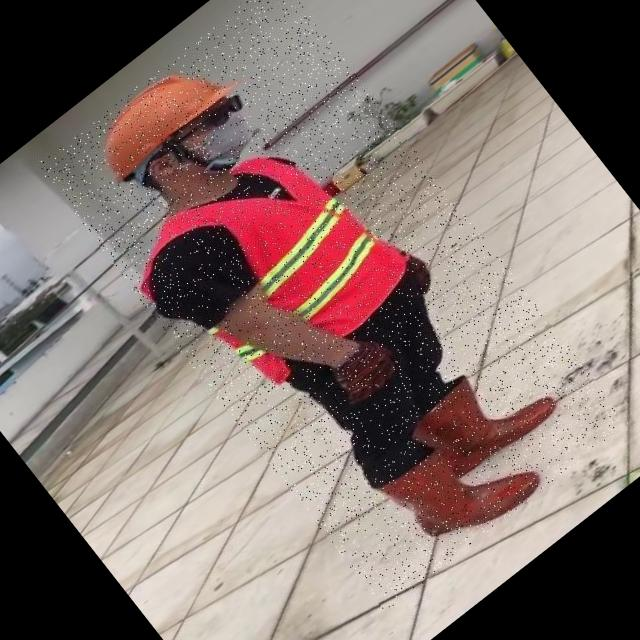hard_hat: (79, 42, 243, 190)
safety_vest: (109, 118, 416, 422)
vehicle: (37, 0, 629, 612)
work_boots: (372, 406, 546, 572), (406, 342, 562, 492)
